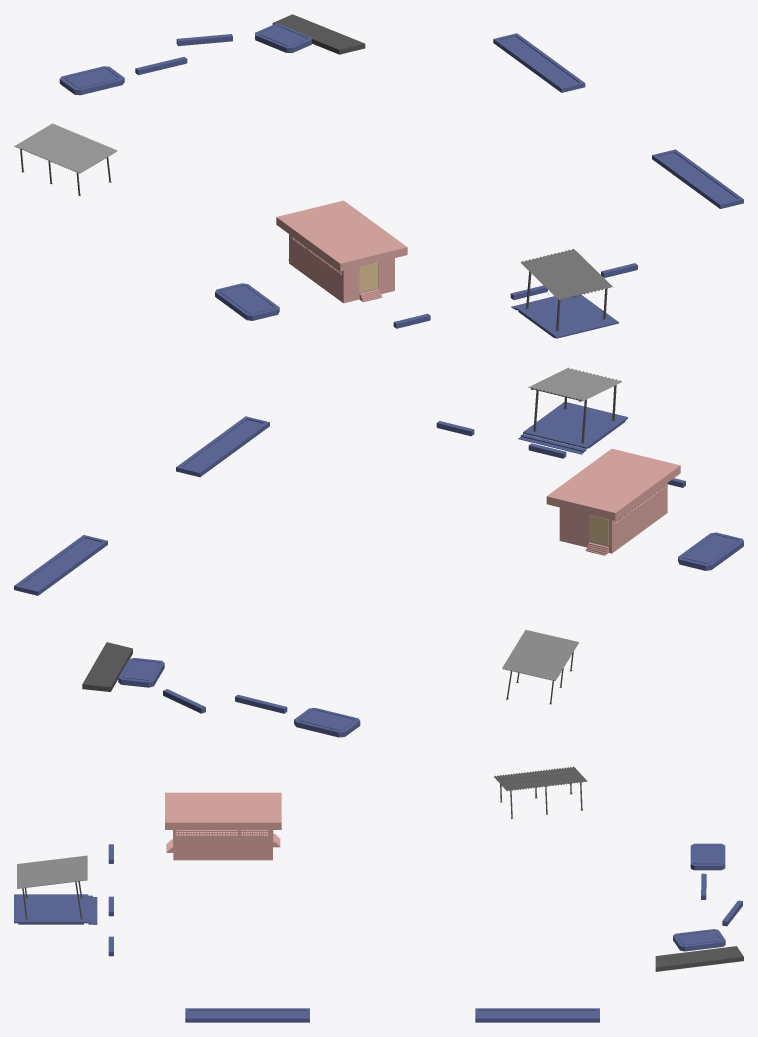
The picture shows the model from 3 angles, top to bottom: view 1: azimuth 30°, elevation 25°; view 2: azimuth 150°, elevation 25°; view 3: azimuth 270°, elevation 25°; orthographic projection. The views are drawn at different scales.
Parts seen in each view (by area): view 1: Circle.225, Plane.264, Plane.267, Circle.201, Circle.202, Circle.235, Circle.181, Circle.206, Circle.207, Circle.199, Circle.192, Circle.221; view 2: Circle.225, Plane.264, Circle.201, Circle.202, Plane.267, Circle.235, Circle.181, Circle.199, Circle.207, Circle.206, Circle.192, Circle.221; view 3: Circle.225, Plane.264, Circle.201, Circle.202, Plane.267, Circle.181, Circle.199, Circle.192, Circle.206, Circle.207, Circle.237.
Part boxes in pixels (x1,y1,x2,y2): Circle.225: (276, 200, 407, 303); Plane.264: (511, 294, 618, 338); Plane.267: (521, 249, 613, 300); Circle.201: (493, 33, 585, 92); Circle.202: (652, 149, 743, 208); Circle.235: (215, 283, 279, 320); Circle.181: (272, 14, 365, 54); Circle.206: (47, 137, 116, 173); Circle.207: (14, 123, 84, 159); Circle.199: (59, 66, 124, 95); Circle.192: (255, 24, 311, 52); Circle.221: (393, 263, 637, 328); Circle.225: (546, 448, 680, 553); Plane.264: (518, 402, 627, 454); Circle.201: (14, 535, 107, 595); Circle.202: (176, 416, 269, 477); Plane.267: (528, 367, 621, 401); Circle.235: (678, 532, 743, 570); Circle.181: (82, 642, 132, 691); Circle.199: (294, 708, 360, 737); Circle.207: (502, 649, 567, 680); Circle.206: (514, 629, 578, 661); Circle.192: (118, 658, 164, 687); Circle.221: (436, 421, 685, 487); Circle.225: (165, 792, 281, 860); Plane.264: (14, 894, 97, 924); Circle.201: (475, 1008, 599, 1022); Circle.202: (185, 1008, 309, 1022); Plane.267: (17, 855, 87, 888); Circle.181: (655, 946, 743, 971); Circle.199: (690, 843, 725, 870); Circle.192: (673, 929, 725, 951); Circle.206: (494, 771, 547, 791); Circle.207: (534, 766, 587, 786); Circle.237: (176, 830, 268, 835).
Bounding box in the file's own units: 342 × 33.47 × 458.
